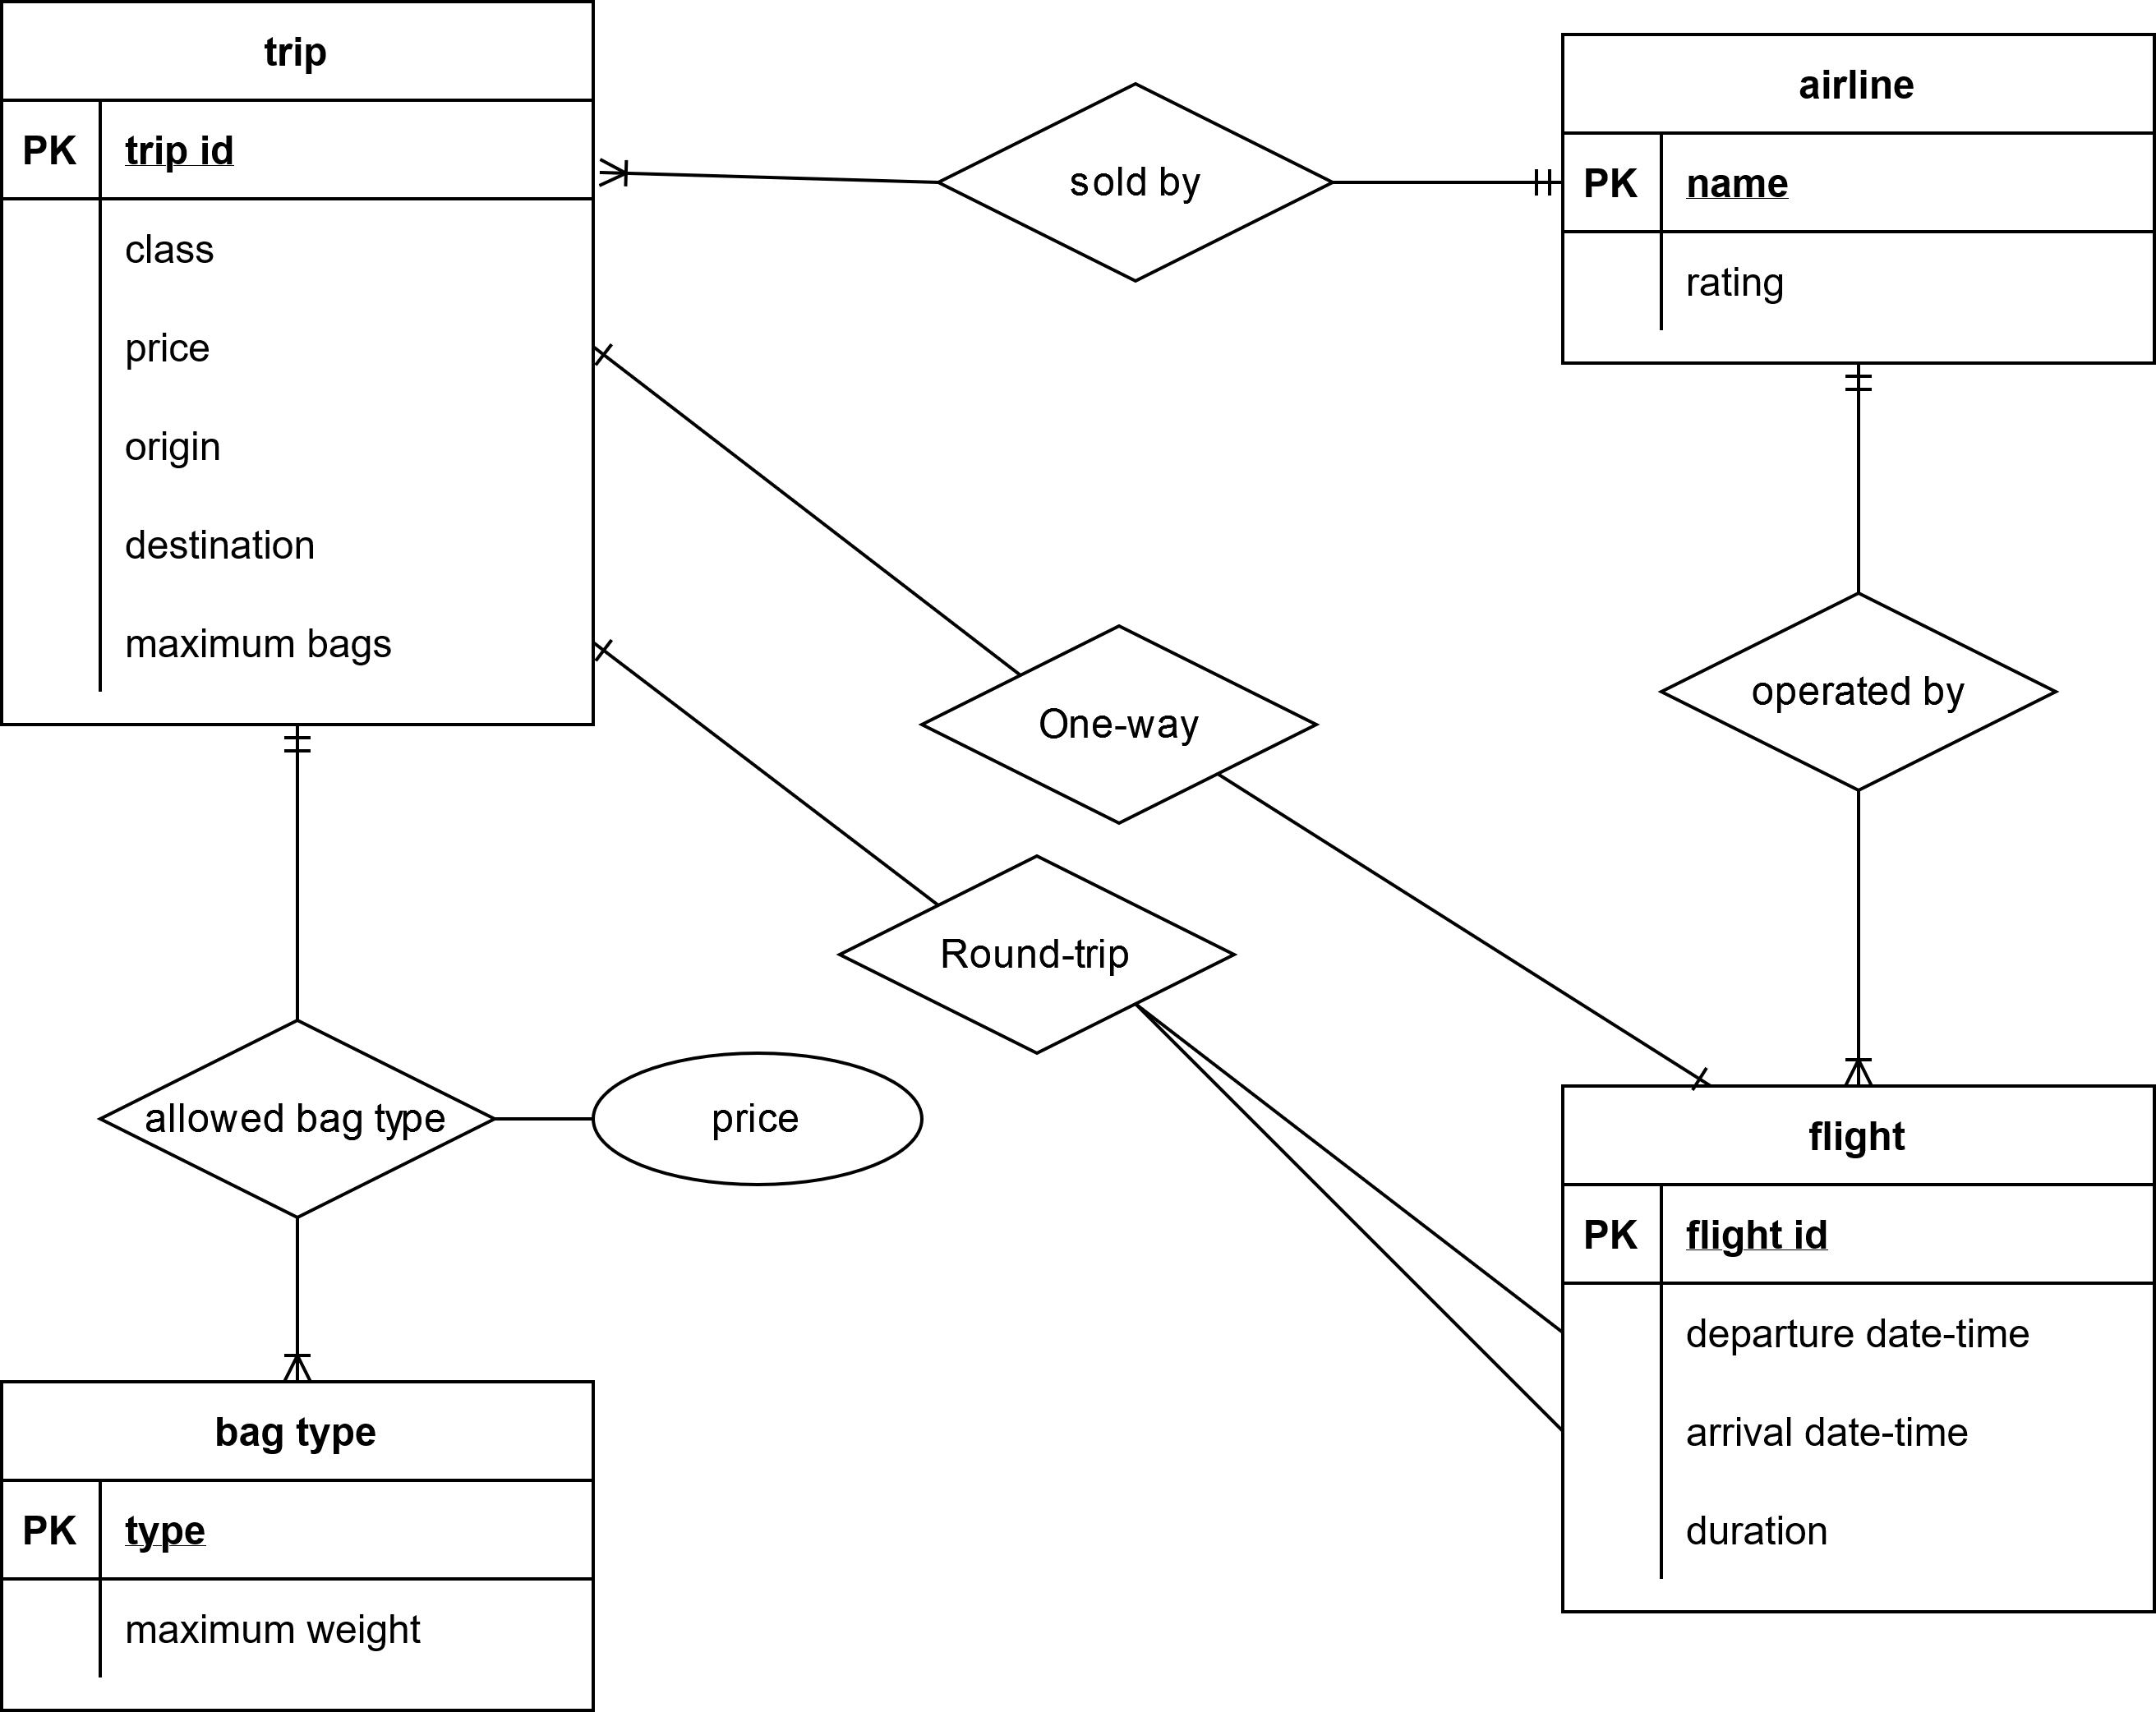attribute: (595, 1057, 926, 1185)
entity: (0, 0, 598, 730), (1559, 1078, 2156, 1617), (1556, 26, 2156, 369), (0, 1376, 600, 1712)
relationship: (840, 854, 1241, 1059), (915, 627, 1318, 826), (940, 75, 1325, 284), (100, 1017, 492, 1218), (1654, 597, 2058, 791)
